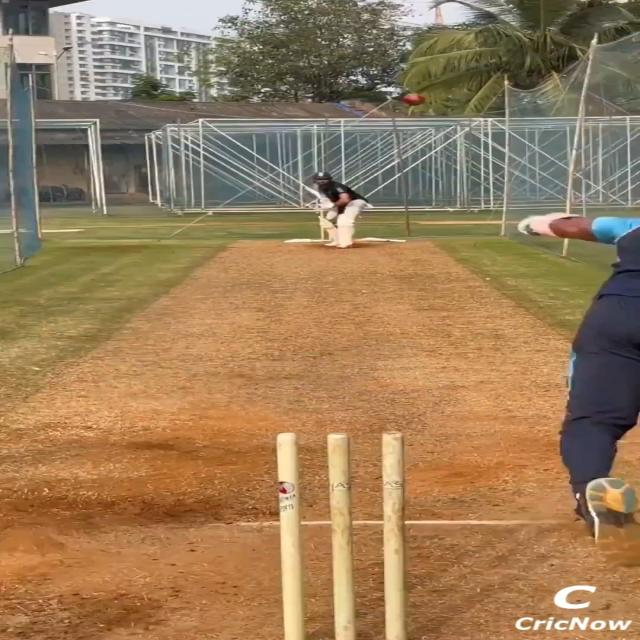ball: (404, 93, 427, 106)
stump: (274, 430, 414, 640)
